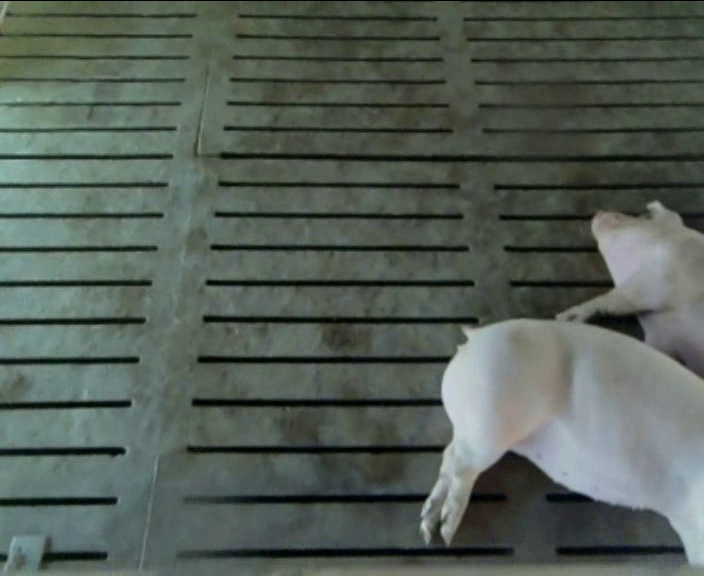pig: (421, 319, 703, 564), (556, 202, 703, 377)
